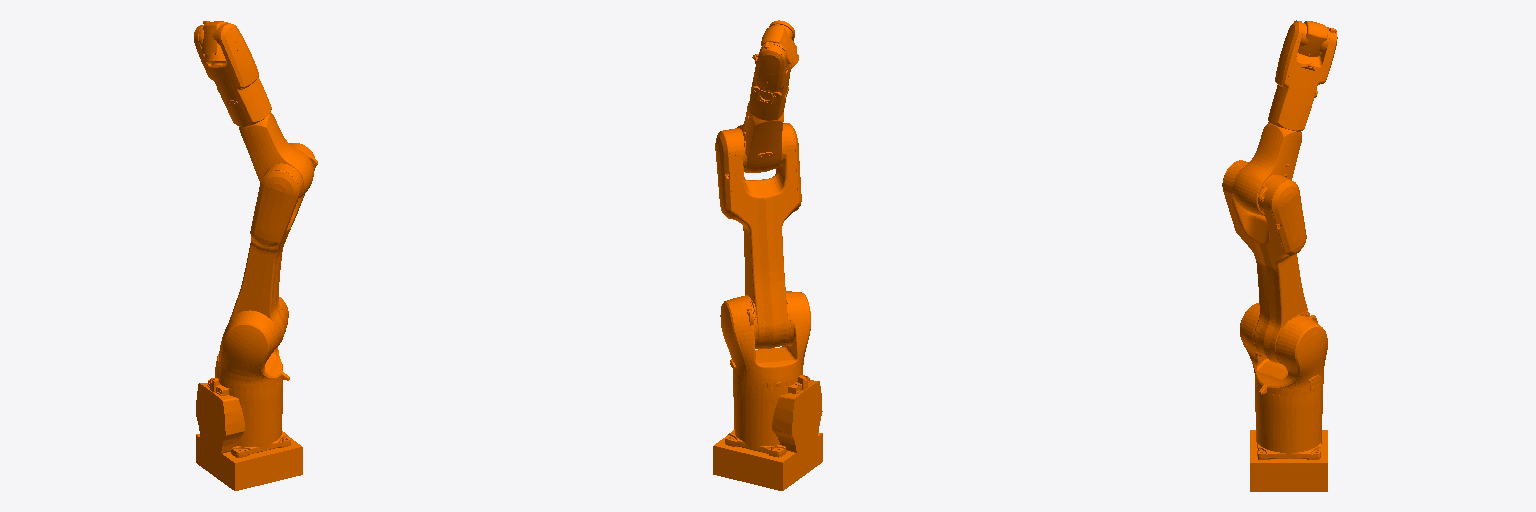
robot.urdf — kuka10:
<?xml version="1.0" encoding="utf-8" ?>
<!-- This URDF was automatically created by SolidWorks to URDF Exporter! Originally created by [author] ([email redacted]) 
     Commit Version: 1.5.1-0-g916b5db  Build Version: 1.5.7152.31018
     For more information, please see http://wiki.ros.org/sw_urdf_exporter -->
<robot name="kuka10">
    <material name="DarkGrey">
        <color rgba="0.3 0.3 0.3 1.0" />
    </material>
    <material name="Red">
        <color rgba="0.3 0.3 0.3 1.0" />
    </material>
    <material name="Black">
        <color rgba="0 0 0 1.0" />
    </material>
    <material name="Orange">
        <color rgba="1.0 0.487 0 1.0" />
    </material>
    <material name="Silver">
        <color rgba="1.0 1.0 1.0 1.0" />
    </material>
    <material name="Grey">
        <color rgba="0.7 0.7 0.7 1.0" />
    </material>
    <material name="Blue">
        <color rgba="0.0 0.0 0.8 1.0" />
    </material>
    <material name="HandGray">
        <color rgba="0.953 0.996 0.694 1.0" />
    </material>
    <material name="SickBlue">
        <color rgba="0.3058 0.5921 0.7294 1.0" />
    </material>
    <link name="base">
        <visual>
            <origin xyz="0 0 0" rpy="0 0 0" />
            <geometry>
                <mesh filename="package://kuka10/meshes/base.STL" />
            </geometry>
            <material name="Orange" />
        </visual>
        <collision>
            <origin xyz="0 0 0" rpy="0 0 0" />
            <geometry>
                <mesh filename="package://kuka10/meshes/base.STL" />
            </geometry>
        </collision>
    </link>
    <link name="link0">
        
<inertial>
            <origin xyz="-0.01839 -3.5933E-07 0.11546" rpy="0 0 0" />
            <mass value="26.274" />
            <inertia ixx="0.18457" ixy="3.5048E-05" ixz="-0.0010764" iyy="0.22337" iyz="7.5521E-07" izz="0.19181" />
        </inertial>

        <visual>
            <origin xyz="0 0 0" rpy="0 0 0" />
            <geometry>
                <mesh filename="package://kuka10/meshes/link0.STL" />
            </geometry>
            <material name="Orange" />
        </visual>
        <collision>
            <origin xyz="0 0 0" rpy="0 0 0" />
            <geometry>
                <mesh filename="package://kuka10/meshes/link0.STL" />
            </geometry>
        </collision>
    </link>
    <joint name="joint0" type="fixed">
        <origin xyz="0 0 0.1" rpy="0 0 0" />
        <parent link="base" />
        <child link="link0" />
        <axis xyz="0 0 0" />
    </joint>
    <link name="link1">
        
<inertial>
            <origin xyz="0.0079083 -0.00051127 0.11392" rpy="0 0 0" />
            <mass value="16.138" />
            <inertia ixx="0.19309" ixy="0.0006758" ixz="-0.013379" iyy="0.12335" iyz="0.0013217" izz="0.14549" />
        </inertial>

        <visual>
            <origin xyz="0 0 0" rpy="0 0 0" />
            <geometry>
                <mesh filename="package://kuka10/meshes/link1.STL" />
            </geometry>
            <material name="Orange" />
        </visual>
        <collision>
            <origin xyz="0 0 0" rpy="0 0 0" />
            <geometry>
                <mesh filename="package://kuka10/meshes/link1.STL" />
            </geometry>
        </collision>
    </link>
    <joint name="joint1" type="continuous">
        <origin xyz="0 0 0.2197" rpy="0 0 -0.7749" />
        <parent link="link0" />
        <child link="link1" />
        <axis xyz="0 0 1" />
    </joint>
    <link name="link2">
        
<inertial>
            <origin xyz="-0.00911156381912787 0.00127180641469707 0.26714923517814" rpy="0 0 0" />
            <mass value="29.2099116534424" />
            <inertia ixx="1.34821566118044" ixy="-0.000330024096012352" ixz="0.00439133420283591" iyy="1.27460889813477" iyz="-0.00958269944703305" izz="0.148351469990613" />
        </inertial>

        <visual>
            <origin xyz="0 0 0" rpy="0 0 0" />
            <geometry>
                <mesh filename="package://kuka10/meshes/link2.STL" />
            </geometry>
            <material name="Orange" />
        </visual>
        <collision>
            <origin xyz="0 0 0" rpy="0 0 0" />
            <geometry>
                <mesh filename="package://kuka10/meshes/link2.STL" />
            </geometry>
        </collision>
    </link>
    <joint name="joint2" type="continuous">
        <origin xyz="0.025 0 0.1803" rpy="0 0.1845 0" />
        <parent link="link1" />
        <child link="link2" />
        <axis xyz="0 1 0" />
    </joint>
    <link name="link3">
        
<inertial>
            <origin xyz="0.0524771518075861 -0.0027427841766853 0.0111313624197632" rpy="0 0 0" />
            <mass value="10.7356515464227" />
            <inertia ixx="0.0279341038364137" ixy="-0.00115290740250484" ixz="-0.00842464631152634" iyy="0.0773897506639313" iyz="-0.000157169490025021" izz="0.0746591519039725" />
        </inertial>

        <visual>
            <origin xyz="0 0 0" rpy="0 0 0" />
            <geometry>
                <mesh filename="package://kuka10/meshes/link3.STL" />
            </geometry>
            <material name="Orange" />
        </visual>
        <collision>
            <origin xyz="0 0 0" rpy="0 0 0" />
            <geometry>
                <mesh filename="package://kuka10/meshes/link3.STL" />
            </geometry>
        </collision>
    </link>
    <joint name="joint3" type="continuous">
        <origin xyz="0 0 0.56" rpy="3.1416 -0.9676 3.1416" />
        <parent link="link2" />
        <child link="link3" />
        <axis xyz="0 1 0" />
    </joint>
    <link name="link4">
        
<inertial>
            <origin xyz="0.165034583770522 0.00167296880256596 -6.4005807734191E-05" rpy="0 0 0" />
            <mass value="9.46899709406203" />
            <inertia ixx="0.0230437737584603" ixy="-0.00261444143202852" ixz="9.41523238675817E-05" iyy="0.0774068681899215" iyz="9.8811156792329E-06" izz="0.085272485874058" />
        </inertial>

        <visual>
            <origin xyz="0 0 0" rpy="0 0 0" />
            <geometry>
                <mesh filename="package://kuka10/meshes/link4.STL" />
            </geometry>
            <material name="Orange" />
        </visual>
        <collision>
            <origin xyz="0 0 0" rpy="0 0 0" />
            <geometry>
                <mesh filename="package://kuka10/meshes/link4.STL" />
            </geometry>
        </collision>
    </link>
    <joint name="joint4" type="continuous">
        <origin xyz="0.19382 0 0.025" rpy="1.0672 0 0" />
        <parent link="link3" />
        <child link="link4" />
        <axis xyz="1 0 0" />
    </joint>
    <link name="link5">
        
<inertial>
            <origin xyz="0.0114533423498129 -0.00142267053746903 -4.008378570175E-06" rpy="0 0 0" />
            <mass value="2.0616109473854" />
            <inertia ixx="0.00231059733509885" ixy="-2.67355053683567E-05" ixz="2.43063715679791E-07" iyy="0.00296181700973428" iyz="3.00991587522657E-07" izz="0.00337904061501" />
        </inertial>

        <visual>
            <origin xyz="0 0 0" rpy="0 0 0" />
            <geometry>
                <mesh filename="package://kuka10/meshes/link5.STL" />
            </geometry>
            <material name="Orange" />
        </visual>
        <collision>
            <origin xyz="0 0 0" rpy="0 0 0" />
            <geometry>
                <mesh filename="package://kuka10/meshes/link5.STL" />
            </geometry>
        </collision>
    </link>
    <joint name="joint5" type="continuous">
        <origin xyz="0.32118 0 0" rpy="-3.1416 -0.53505 3.1416" />
        <parent link="link4" />
        <child link="link5" />
        <axis xyz="0 1 0" />
    </joint>
    <link name="link6">
        
<inertial>
            <origin xyz="0.0661274920087269 2.4757973449141E-13 9.01350287337011E-06" rpy="0 0 0" />
            <mass value="0.205263387642513" />
            <inertia ixx="0.000146662065922685" ixy="-2.04558456761914E-16" ixz="-1.11524121828852E-08" iyy="7.82078474308265E-05" iyz="1.27135283163192E-15" izz="7.81985995901856E-05" />
        </inertial>

        <visual>
            <origin xyz="0 0 0" rpy="0 0 0" />
            <geometry>
                <mesh filename="package://kuka10/meshes/link6.STL" />
            </geometry>
            <material name="Orange" />
        </visual>
        <collision>
            <origin xyz="0 0 0" rpy="0 0 0" />
            <geometry>
                <mesh filename="package://kuka10/meshes/link6.STL" />
            </geometry>
        </collision>
    </link>
    <joint name="joint6" type="continuous">
        <origin xyz="0.011146 0 0" rpy="0.99552 0 0" />
        <parent link="link5" />
        <child link="link6" />
        <axis xyz="1 0 0" />
    </joint>
    
<transmission name="trans_joint1">
        <type>transmission_interface/SimpleTransmission</type>
        <joint name="joint1">
            <hardwareInterface>hardware_interface/EffortJointInterface</hardwareInterface>
        </joint>
        <actuator name="joint1_motor">
            <hardwareInterface>hardware_interface/EffortJointInterface</hardwareInterface>
            <mechanicalReduction>1</mechanicalReduction>
        </actuator>
    </transmission>
    <transmission name="trans_joint2">
        <type>transmission_interface/SimpleTransmission</type>
        <joint name="joint2">
            <hardwareInterface>hardware_interface/EffortJointInterface</hardwareInterface>
        </joint>
        <actuator name="joint2_motor">
            <hardwareInterface>hardware_interface/EffortJointInterface</hardwareInterface>
            <mechanicalReduction>1</mechanicalReduction>
        </actuator>
    </transmission>
    <transmission name="trans_joint3">
        <type>transmission_interface/SimpleTransmission</type>
        <joint name="joint3">
            <hardwareInterface>hardware_interface/EffortJointInterface</hardwareInterface>
        </joint>
        <actuator name="joint3_motor">
            <hardwareInterface>hardware_interface/EffortJointInterface</hardwareInterface>
            <mechanicalReduction>1</mechanicalReduction>
        </actuator>
    </transmission>
    <transmission name="trans_joint4">
        <type>transmission_interface/SimpleTransmission</type>
        <joint name="joint4">
            <hardwareInterface>hardware_interface/EffortJointInterface</hardwareInterface>
        </joint>
        <actuator name="joint4_motor">
            <hardwareInterface>hardware_interface/EffortJointInterface</hardwareInterface>
            <mechanicalReduction>1</mechanicalReduction>
        </actuator>
    </transmission>
    <transmission name="trans_joint5">
        <type>transmission_interface/SimpleTransmission</type>
        <joint name="joint5">
            <hardwareInterface>hardware_interface/EffortJointInterface</hardwareInterface>
        </joint>
        <actuator name="joint5_motor">
            <hardwareInterface>hardware_interface/EffortJointInterface</hardwareInterface>
            <mechanicalReduction>1</mechanicalReduction>
        </actuator>
    </transmission>
    <transmission name="trans_joint6">
        <type>transmission_interface/SimpleTransmission</type>
        <joint name="joint6">
            <hardwareInterface>hardware_interface/EffortJointInterface</hardwareInterface>
        </joint>
        <actuator name="joint6_motor">
            <hardwareInterface>hardware_interface/EffortJointInterface</hardwareInterface>
            <mechanicalReduction>1</mechanicalReduction>
        </actuator>
    </transmission>
    <gazebo>
        <plugin name="gazebo_ros_control" filename="libgazebo_ros_control.so">
            <robotNamespace>/</robotNamespace>
        </plugin>
    </gazebo>
</robot>

--- What the picture shows (computed from the rendered views, not written in the file) ---
Views: 3 orthographic renders of the robot side by side, from view 1: azimuth 30°, elevation 25°; view 2: azimuth 150°, elevation 25°; view 3: azimuth 270°, elevation 25°.
Model kuka10 with 8 links and 7 joints (6 continuous, 1 fixed), rooted at base, posed every joint at zero.
Visible links, largest first — view 1: link2, link0, link1, link4, base, link3, link5; view 2: link2, link0, link1, base, link4, link3, link5; view 3: link2, link1, link0, link4, link3, base, link5.
Link boxes in pixels (<box>): link2: <box>229,143,317,348</box>; link0: <box>196,378,290,457</box>; link1: <box>215,297,289,389</box>; link4: <box>194,21,271,126</box>; base: <box>196,434,302,490</box>; link3: <box>239,112,313,197</box>; link5: <box>198,21,227,59</box>; link2: <box>715,123,801,348</box>; link0: <box>725,375,822,457</box>; link1: <box>720,291,810,387</box>; base: <box>713,432,822,490</box>; link4: <box>748,20,794,120</box>; link3: <box>737,103,783,172</box>; link5: <box>761,24,797,67</box>; link2: <box>1222,160,1309,364</box>; link1: <box>1240,303,1327,395</box>; link0: <box>1255,384,1322,459</box>; link4: <box>1268,20,1337,131</box>; link3: <box>1232,122,1301,215</box>; base: <box>1250,430,1327,491</box>; link5: <box>1298,21,1329,56</box>.
Size in the robot's own frame: 0.3565 by 0.3685 by 1.57 metres.
Meshes: 8 distinct files referenced, 8 mesh visuals loaded (8 binary STL).
